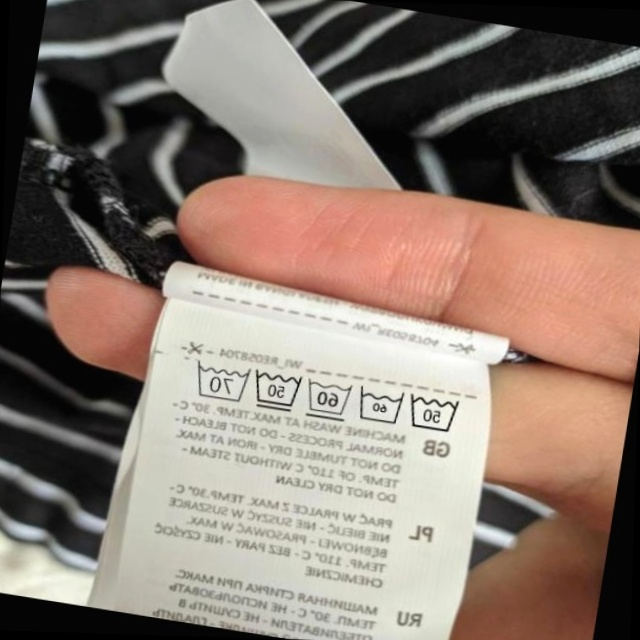50C: (403, 386, 461, 438), (247, 366, 302, 415)
60C: (300, 375, 355, 423), (351, 384, 406, 427)
70C: (188, 357, 251, 408)
